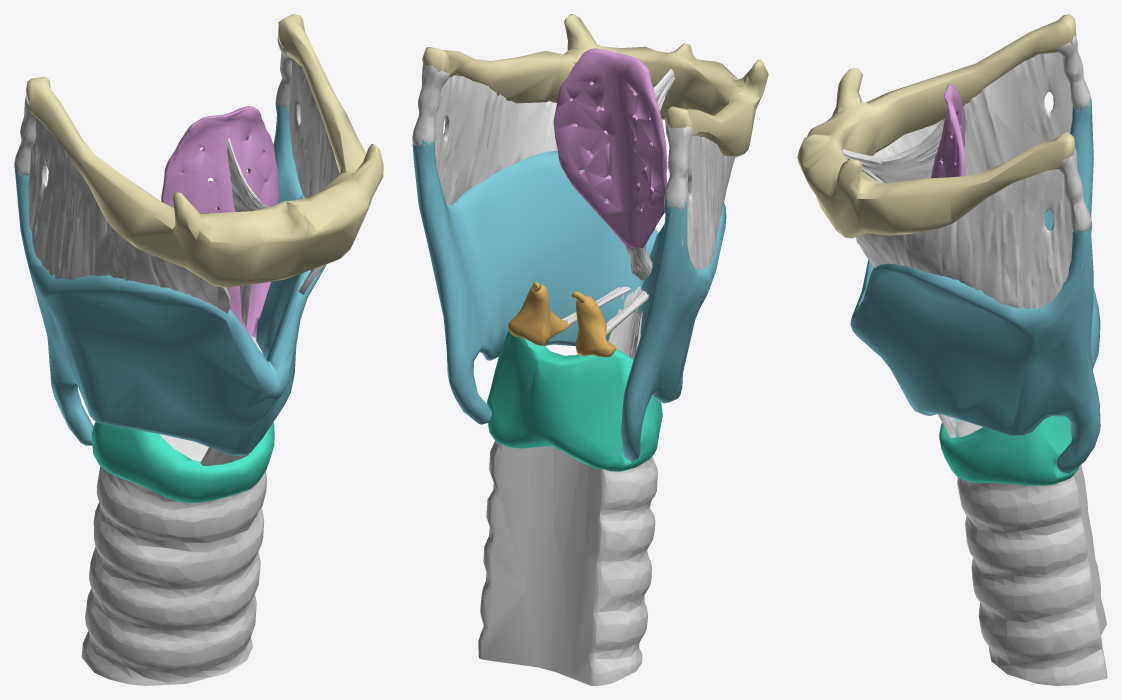
Rendered from larynx.glb.
The picture shows the model from 3 angles, left to right: view 1: azimuth 30°, elevation 25°; view 2: azimuth 150°, elevation 25°; view 3: azimuth 270°, elevation 25°; orthographic projection. The views are drawn at different scales.
Visible parts, largest first — view 1: Thryoid_cartilage, Trachea, Hyoid, Right_Thyroid_Membrane, Epoglottis, Cricoid_cartilage, Left_Thyroid_Membrane, Hyoepiglottic_Ligament, Right_Thyroid_Ligament, Left_Thyroid_Ligament; view 2: Thryoid_cartilage, Trachea, Epoglottis, Cricoid_cartilage, Hyoid, Left_Thyroid_Membrane, Right_Thyroid_Membrane, Left_Arytenoid_cartilage, Right_Thyroid_Ligament, Left_Thyroid_Ligament, Right_Arytenoid_cartilage, Median_Cricothyroid_Ligament (+1 smaller); view 3: Thryoid_cartilage, Trachea, Hyoid, Left_Thyroid_Membrane, Right_Thyroid_Membrane, Cricoid_cartilage, Hyoepiglottic_Ligament, Epoglottis, Left_Thyroid_Ligament, Right_Thyroid_Ligament.
Part boxes in pixels (<box>): Thryoid_cartilage: <box>14,99,326,456</box>; Trachea: <box>81,434,266,685</box>; Hyoid: <box>26,14,383,287</box>; Right_Thyroid_Membrane: <box>17,119,231,313</box>; Epoglottis: <box>161,106,278,339</box>; Cricoid_cartilage: <box>91,421,274,503</box>; Left_Thyroid_Membrane: <box>289,59,339,294</box>; Hyoepiglottic_Ligament: <box>227,138,269,327</box>; Right_Thyroid_Ligament: <box>14,95,37,175</box>; Left_Thyroid_Ligament: <box>276,36,292,107</box>; Thryoid_cartilage: <box>412,139,726,461</box>; Trachea: <box>478,441,657,685</box>; Epoglottis: <box>553,48,667,255</box>; Cricoid_cartilage: <box>486,331,662,471</box>; Hyoid: <box>422,14,768,157</box>; Left_Thyroid_Membrane: <box>435,75,557,205</box>; Right_Thyroid_Membrane: <box>681,135,734,270</box>; Left_Arytenoid_cartilage: <box>508,284,570,345</box>; Right_Thyroid_Ligament: <box>664,125,692,208</box>; Left_Thyroid_Ligament: <box>412,64,449,146</box>; Right_Arytenoid_cartilage: <box>575,296,615,357</box>; Median_Cricothyroid_Ligament: <box>608,286,646,359</box>; Thryoid_cartilage: <box>850,99,1100,473</box>; Trachea: <box>955,419,1107,685</box>; Hyoid: <box>797,14,1076,238</box>; Left_Thyroid_Membrane: <box>856,169,1082,309</box>; Right_Thyroid_Membrane: <box>874,52,1072,175</box>; Cricoid_cartilage: <box>939,415,1079,485</box>; Hyoepiglottic_Ligament: <box>842,118,944,183</box>; Epoglottis: <box>931,84,965,177</box>; Left_Thyroid_Ligament: <box>1058,148,1091,233</box>; Right_Thyroid_Ligament: <box>1056,35,1091,110</box>.
Bounding box in the file's own units: 38.64 × 78.48 × 38.36.
